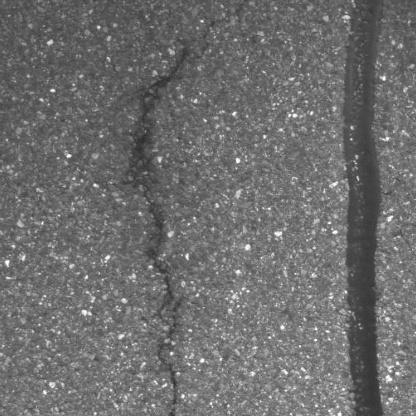Cracks: (130, 45, 193, 416)
